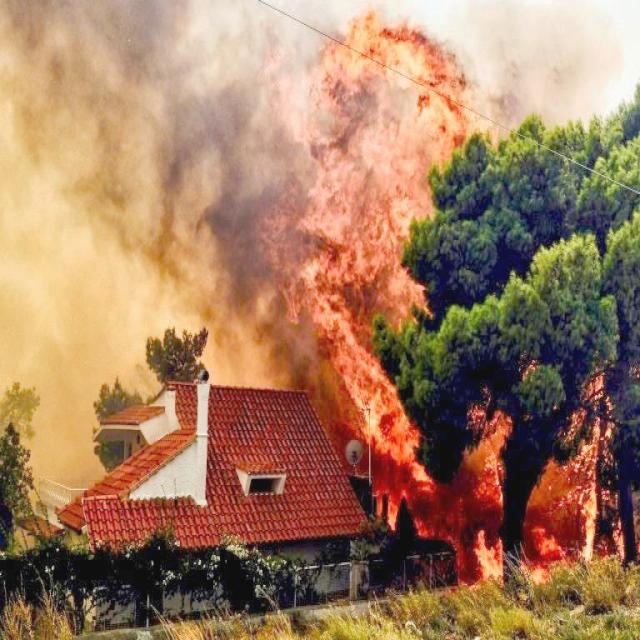api: (269, 1, 613, 589)
asap: (1, 1, 379, 465)
